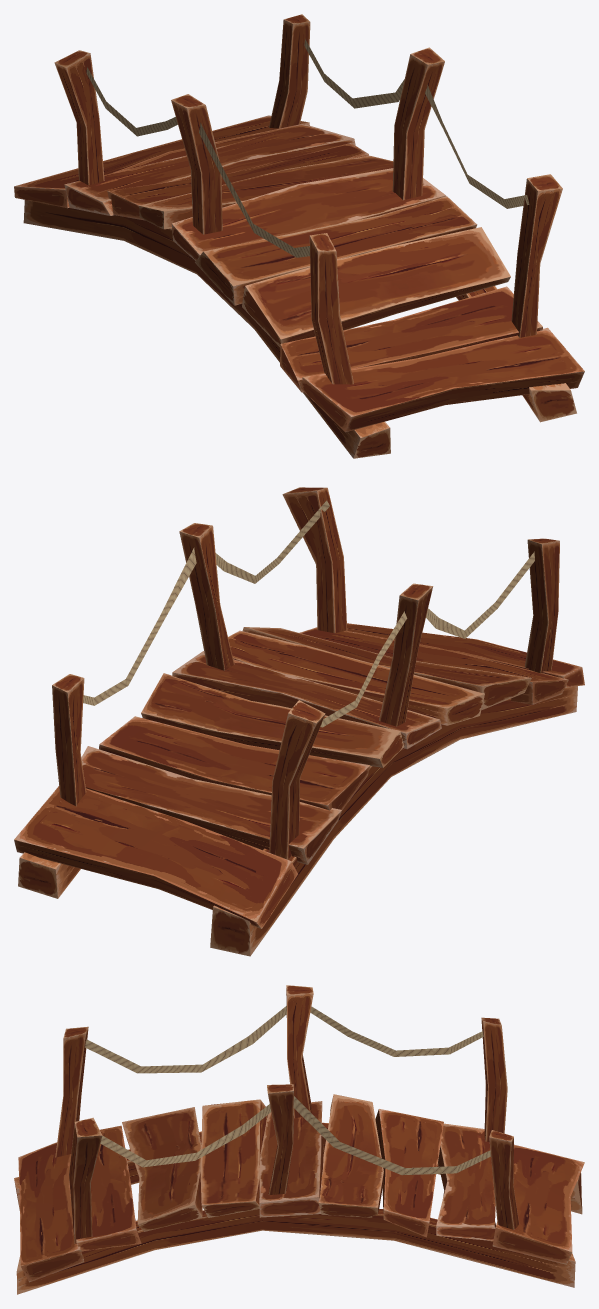
The model's file is SM_PROP_bridge_wood_03.fbx.
The picture shows the model from 3 angles, top to bottom: view 1: azimuth 30°, elevation 25°; view 2: azimuth 150°, elevation 25°; view 3: azimuth 270°, elevation 25°; orthographic projection. The views are drawn at different scales.
Parts seen in each view (by area): view 1: SM_PROP_bridge_wood_03; view 2: SM_PROP_bridge_wood_03; view 3: SM_PROP_bridge_wood_03.
Part boxes in pixels (x1=…): SM_PROP_bridge_wood_03: x1=14, y1=14, x2=584, y2=458; SM_PROP_bridge_wood_03: x1=14, y1=487, x2=584, y2=956; SM_PROP_bridge_wood_03: x1=14, y1=985, x2=584, y2=1294.
Size of the model in its own units: 200 by 177 by 429.
